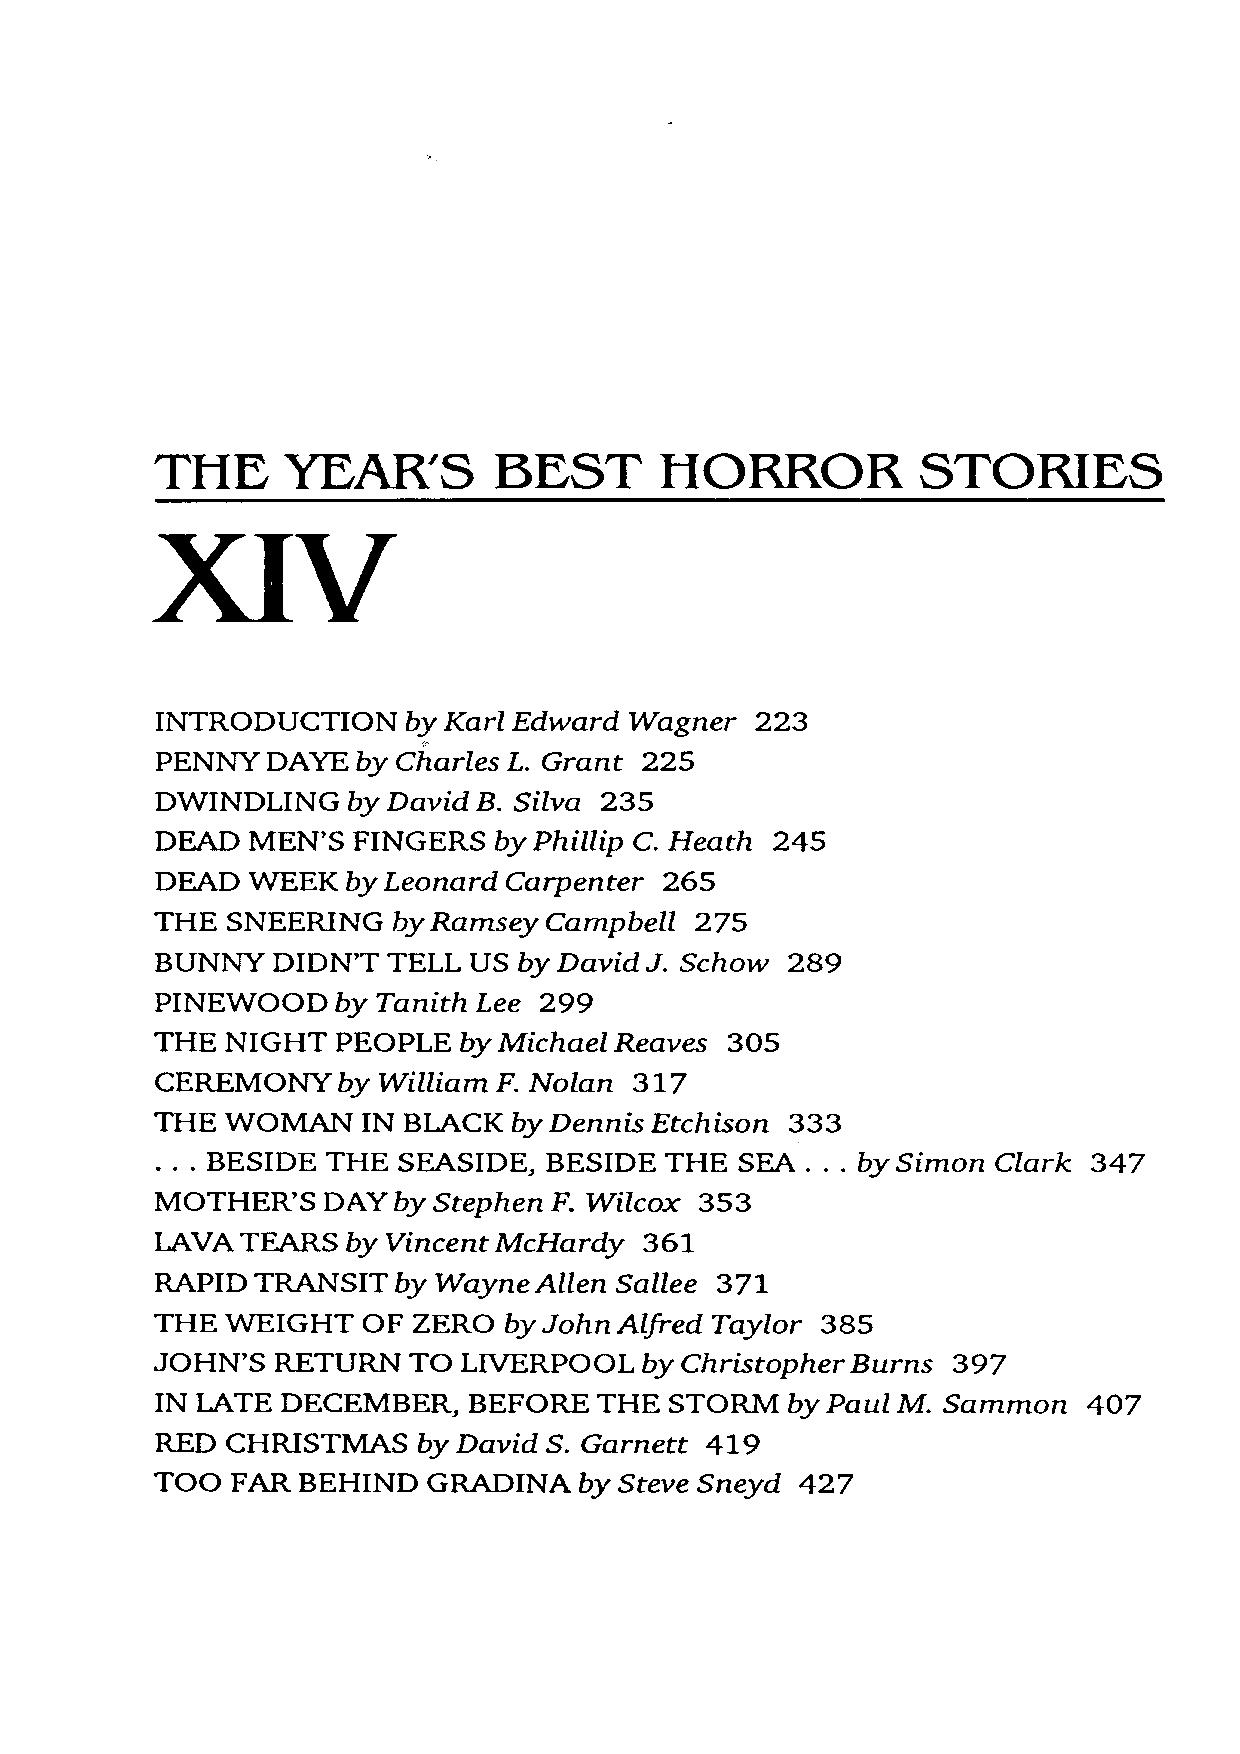TOC_chapter: (154, 1388, 1068, 1418), (145, 1343, 935, 1378), (204, 1146, 1075, 1176), (146, 697, 747, 738), (152, 1307, 803, 1341), (148, 825, 754, 859), (148, 1467, 785, 1496), (148, 906, 678, 939), (152, 947, 769, 976), (152, 1427, 690, 1459), (152, 1266, 696, 1296), (148, 1108, 773, 1135), (152, 1028, 707, 1057), (152, 867, 648, 899), (152, 1227, 625, 1260), (152, 1184, 686, 1213), (152, 745, 624, 777), (154, 782, 585, 817), (152, 1070, 615, 1094), (148, 988, 527, 1015)
TOC_pagenumber: (595, 782, 659, 820), (752, 699, 811, 739), (794, 1467, 860, 1500), (711, 1266, 770, 1300), (698, 1427, 761, 1459), (943, 1347, 1009, 1378), (770, 823, 828, 858), (690, 906, 752, 938), (721, 1024, 781, 1056), (1083, 1390, 1143, 1423), (1088, 1147, 1149, 1178), (635, 743, 696, 773), (538, 986, 595, 1019), (782, 1108, 844, 1137), (628, 1068, 688, 1096), (785, 949, 841, 978), (816, 1307, 875, 1335), (696, 1188, 756, 1215), (639, 1227, 691, 1256), (663, 867, 715, 892)
